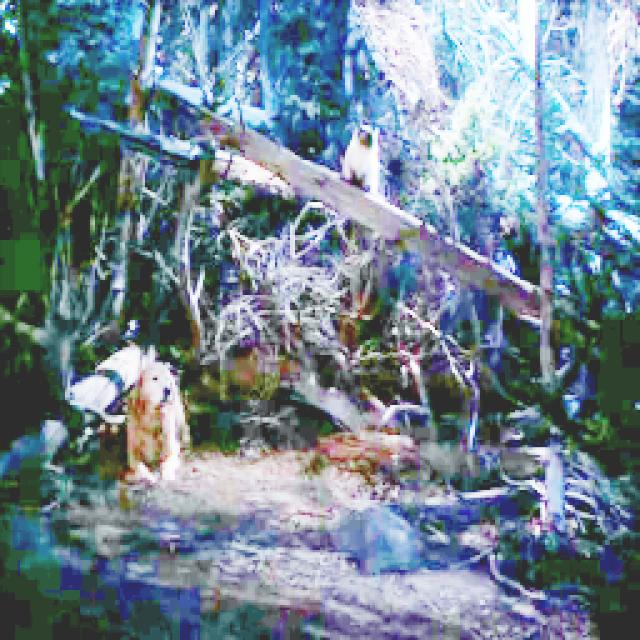cat: (309, 104, 425, 213)
